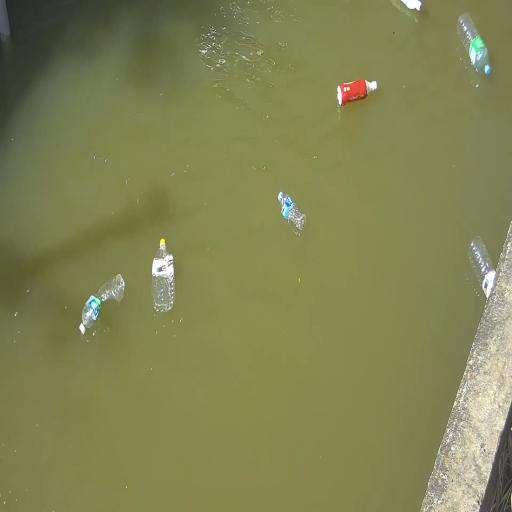plastic: (80, 275, 125, 334), (457, 12, 491, 75), (469, 237, 496, 298), (152, 238, 174, 312), (337, 79, 377, 106), (278, 192, 306, 230)
